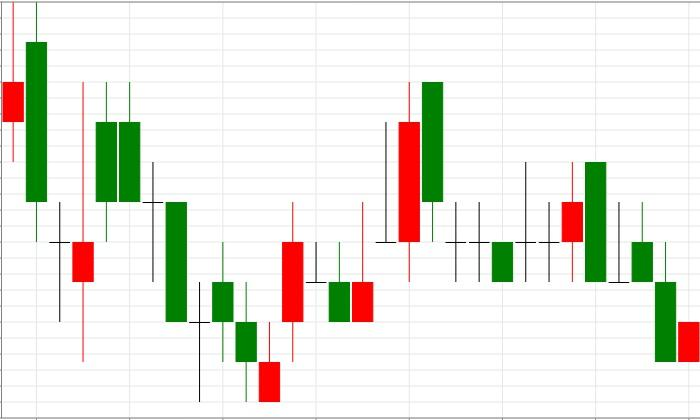bearish_engulfing_fall: (491, 161, 607, 282)
